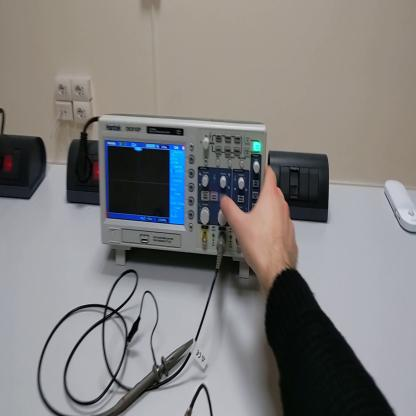hand: (221, 164, 299, 281)
oscilloscope: (102, 116, 269, 281)
oscilloscope probe tip: (100, 340, 193, 415)
socket: (2, 133, 48, 204), (67, 140, 101, 206)
